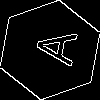A: (25, 25, 78, 67)
